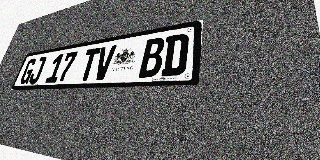1: (45, 53, 66, 83)
7: (56, 51, 78, 82)
B: (138, 37, 166, 78)
D: (161, 33, 189, 76)
G: (19, 58, 38, 84)
J: (27, 56, 47, 84)
T: (78, 47, 101, 81)
V: (92, 45, 117, 80)
